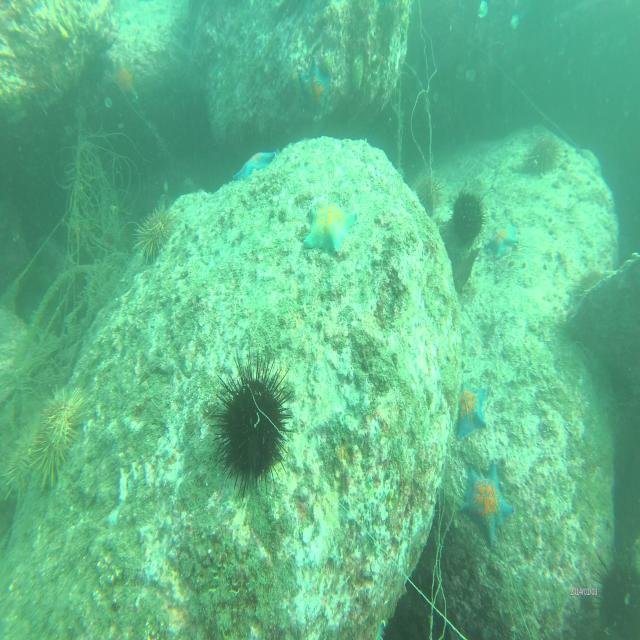echinus: (214, 359, 294, 488), (594, 551, 640, 637), (136, 199, 178, 263), (46, 385, 85, 450), (35, 420, 71, 488), (7, 431, 38, 492), (452, 190, 485, 243), (524, 136, 562, 176), (413, 176, 440, 215)
starfish: (462, 462, 514, 540), (306, 202, 354, 253), (457, 377, 488, 444), (298, 59, 330, 117), (232, 146, 280, 184), (104, 56, 138, 108), (487, 216, 519, 261)
